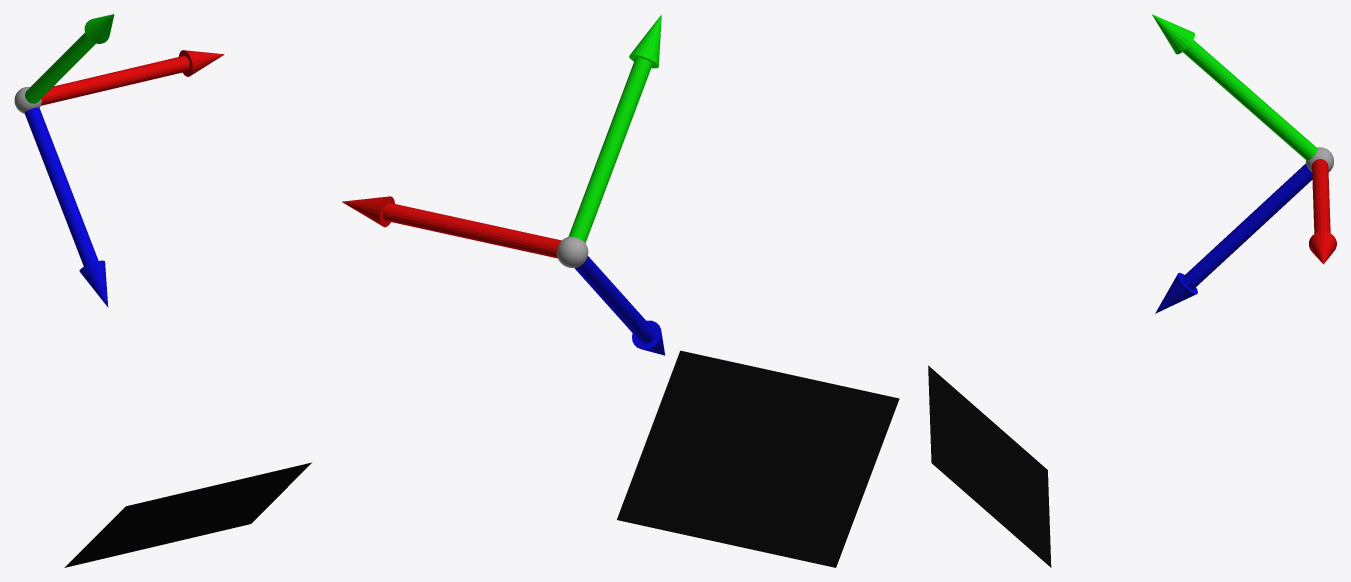
3 views of the same model, side by side, from view 1: azimuth 30°, elevation 25°; view 2: azimuth 150°, elevation 25°; view 3: azimuth 270°, elevation 25° (orthographic). The views are drawn at different scales.
Bounding box in the file's own units: 0.1855 × 0.2981 × 0.2166.
